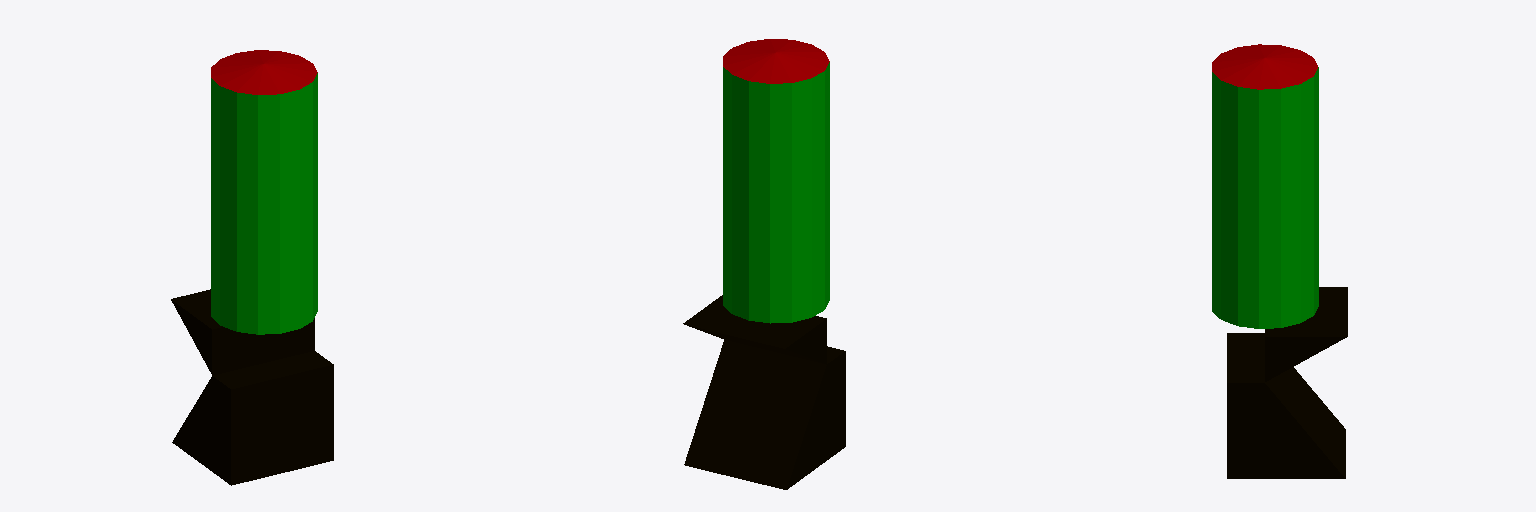
The picture shows the model from 3 angles: view 1: azimuth 30°, elevation 25°; view 2: azimuth 150°, elevation 25°; view 3: azimuth 270°, elevation 25°; orthographic projection.
Parts seen in each view (by area): view 1: Pc3_Cube.563; view 2: Pc3_Cube.563; view 3: Pc3_Cube.563.
Boxes of the visible parts, box(x1,y1,x2,y2) form: Pc3_Cube.563: box(171, 50, 333, 485); Pc3_Cube.563: box(683, 39, 845, 489); Pc3_Cube.563: box(1212, 44, 1347, 478).
Size of the model in its own units: 12.22 by 45.08 by 14.08.